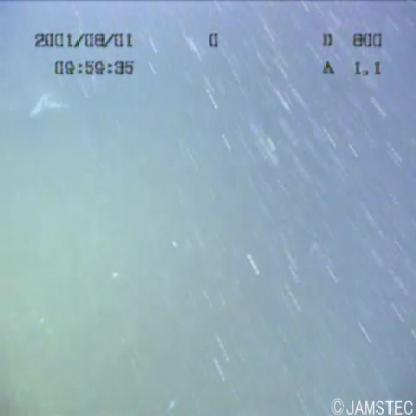Rác: (26, 91, 73, 118)
